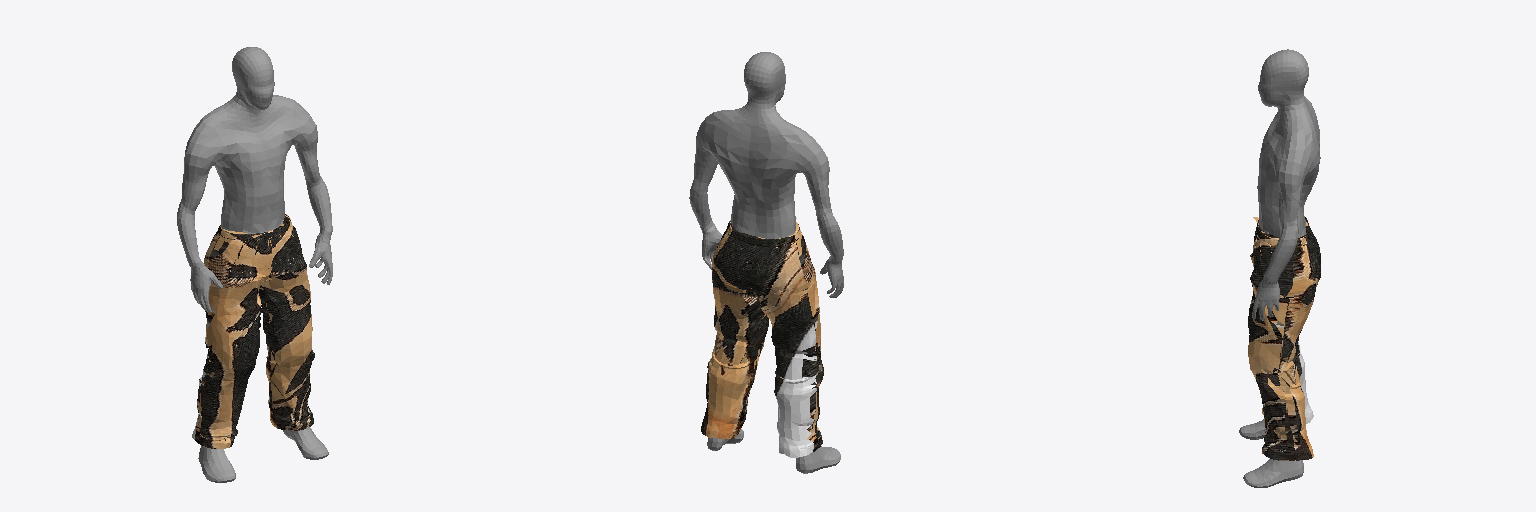
The picture shows the model from 3 angles: view 1: azimuth 30°, elevation 25°; view 2: azimuth 150°, elevation 25°; view 3: azimuth 270°, elevation 25°; orthographic projection.
Parts seen in each view (by area): view 1: Human_BaseMesh_Mesh, Object60.004; view 2: Object60.004, Human_BaseMesh_Mesh; view 3: Human_BaseMesh_Mesh, Object60.004.
Part boxes in pixels (left/top/right/bottom): Human_BaseMesh_Mesh: left=177, top=47, right=332, bottom=482; Object60.004: left=192, top=214, right=314, bottom=448; Object60.004: left=701, top=218, right=823, bottom=457; Human_BaseMesh_Mesh: left=689, top=52, right=843, bottom=473; Human_BaseMesh_Mesh: left=1239, top=49, right=1320, bottom=487; Object60.004: left=1248, top=217, right=1320, bottom=460.
Size of the model in its own units: 6.14 by 16.22 by 2.95.
3 materials, 1 textured.